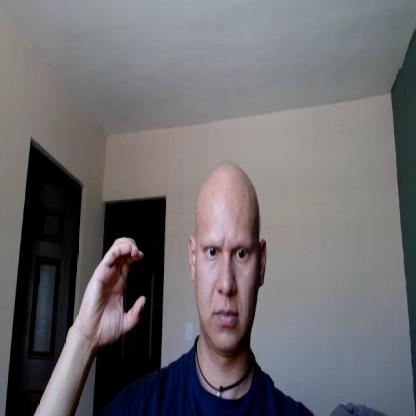C: (84, 236, 146, 344)
